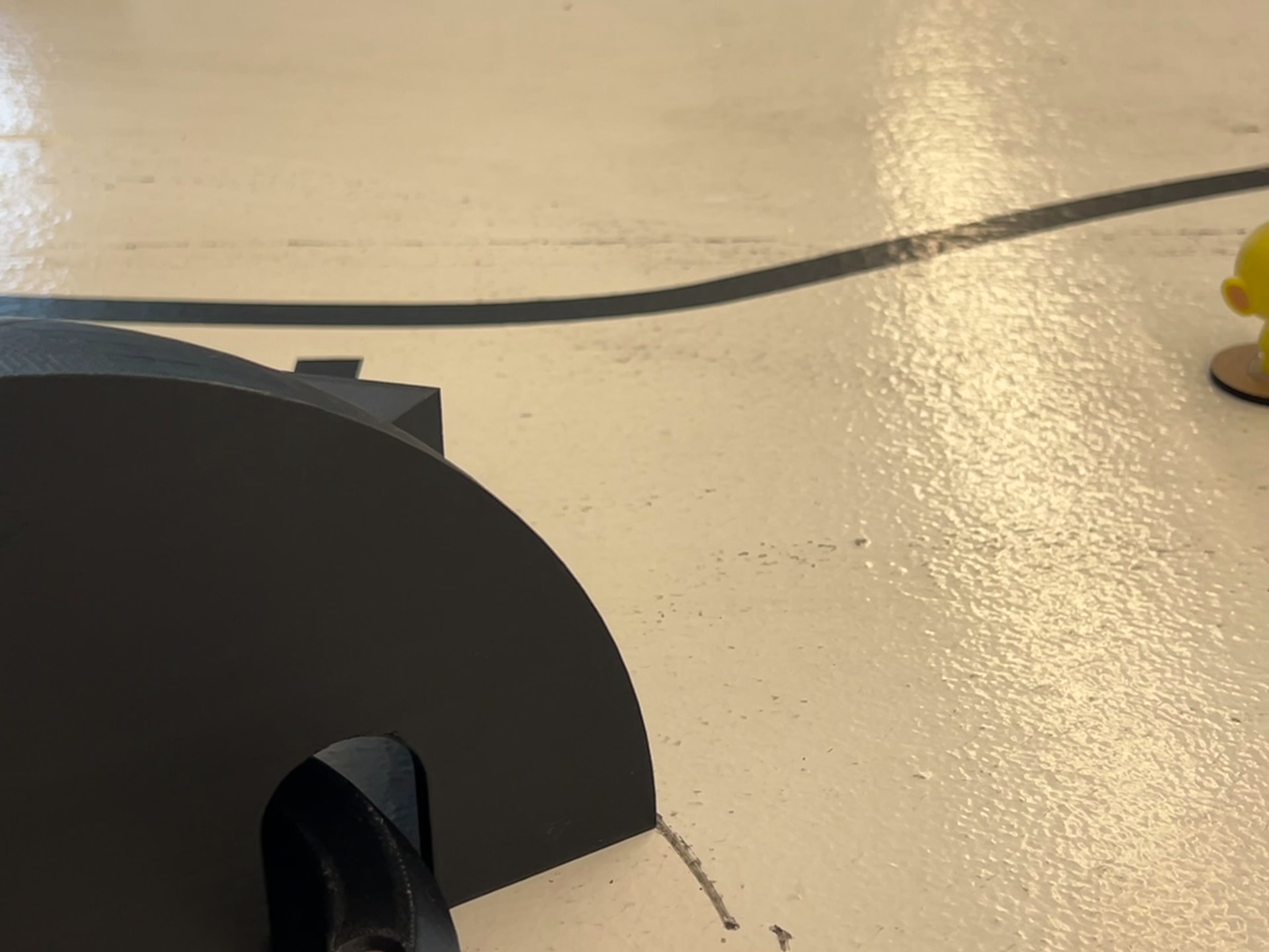teletubby: (1221, 223, 1268, 383)
